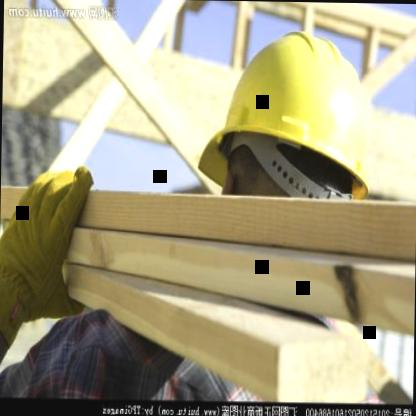helmet: (166, 20, 414, 258)
